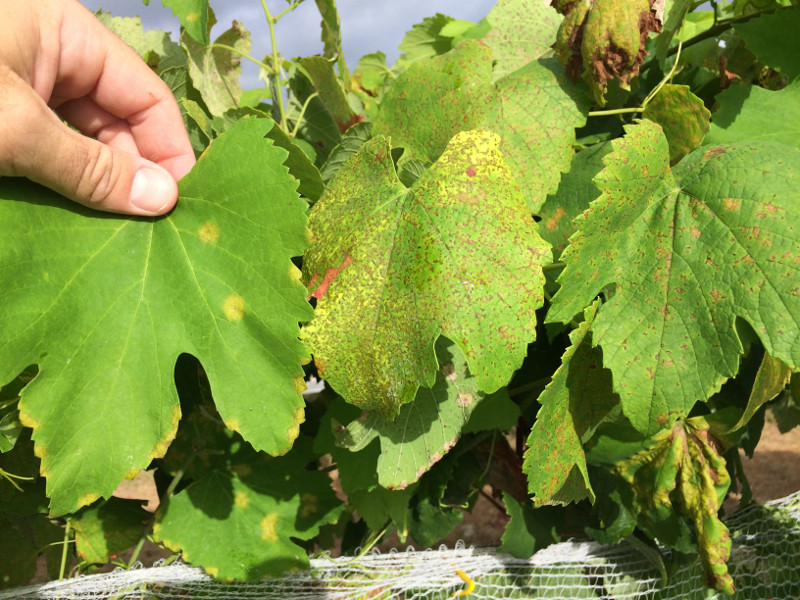downy: (320, 186, 482, 348), (617, 259, 721, 363), (618, 149, 716, 247), (721, 187, 799, 266), (485, 196, 539, 250), (488, 260, 542, 314), (489, 319, 539, 369), (34, 431, 83, 480), (328, 352, 377, 401), (389, 352, 432, 395), (212, 290, 254, 332), (268, 409, 303, 444), (253, 510, 288, 545), (193, 218, 227, 252), (157, 530, 185, 558), (152, 411, 178, 437), (75, 481, 101, 507), (278, 371, 302, 395), (223, 408, 246, 431), (19, 402, 42, 425), (236, 487, 256, 507)
